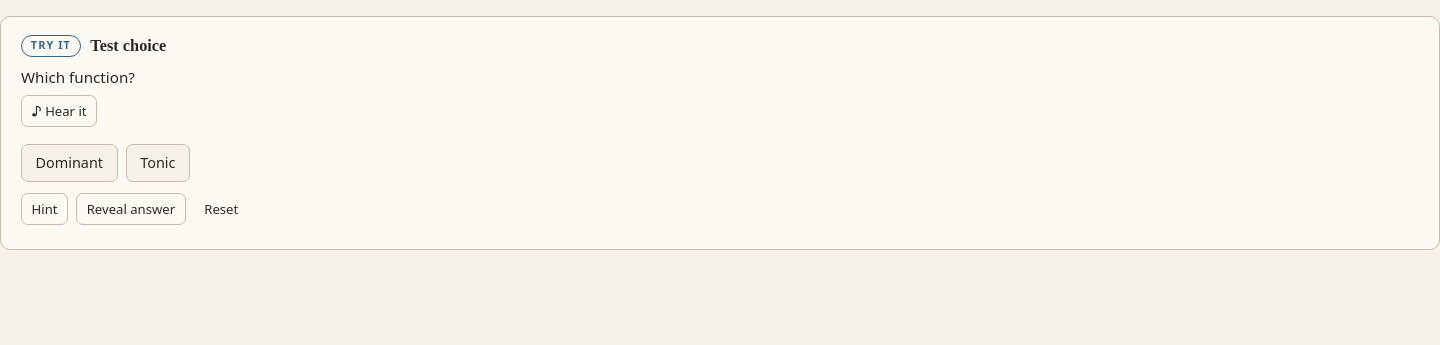
Test: ChoiceExercise › shows hint, reveals explanation, and resets cleanly
Click the button "Hint": (45, 209) [21,193,68,225]
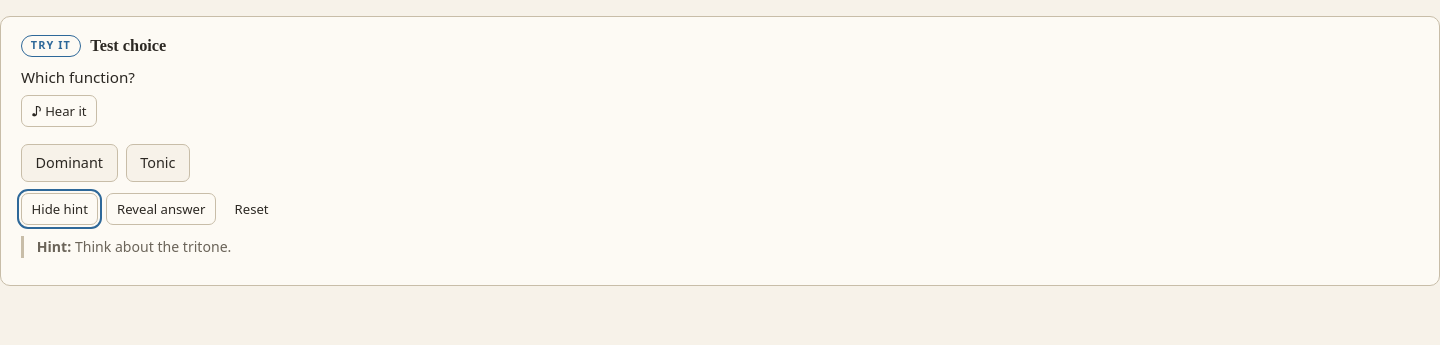
Expected: the text "Hint: Think about the tritone." is shown, [21,236,1419,258]
Click the button "Reveal answer": (161, 209) [106,193,216,225]
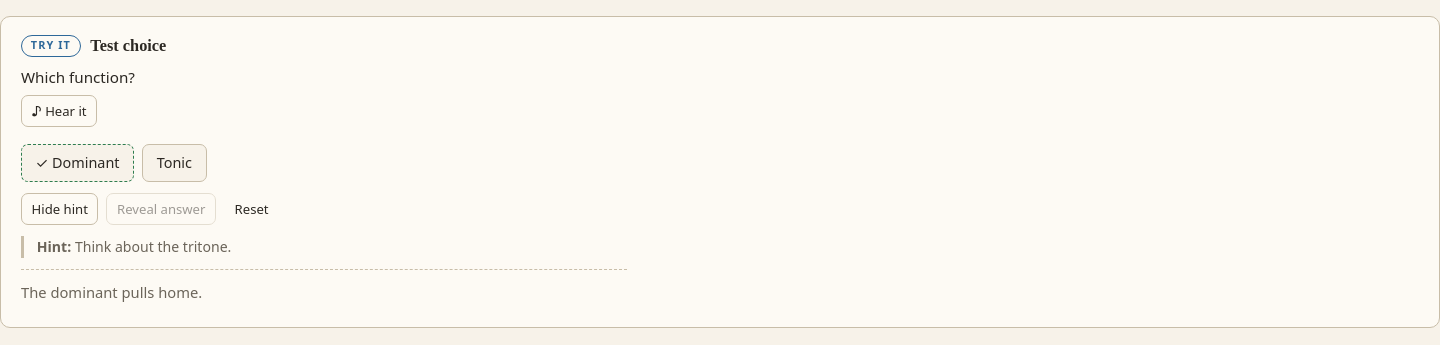
Expected: the text "The dominant pulls home." is shown, [21,282,202,302]
Expected: the button "Reveal answer" is disabled, [106,193,216,225]
Click the button "Reset": (252, 209) [224,193,279,225]
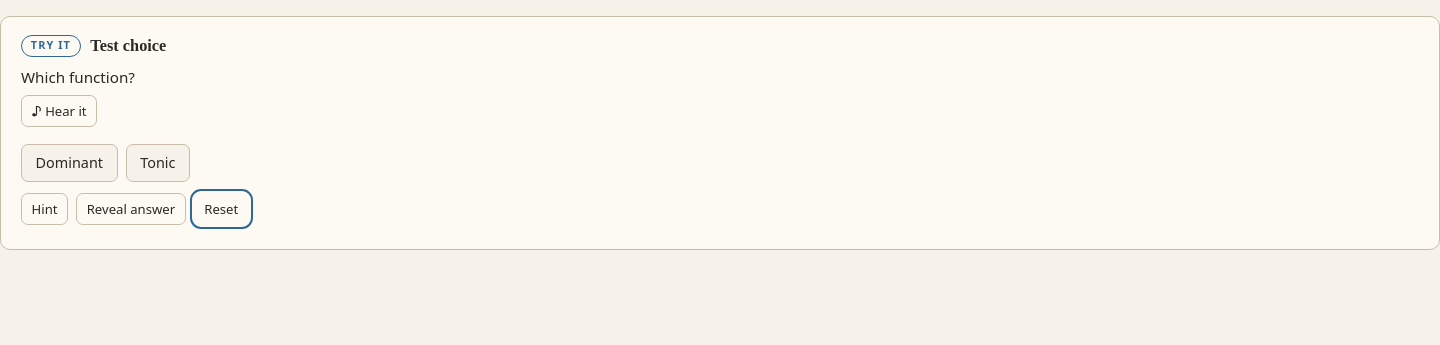
Expected: the text "The dominant pulls home" is gone
Expected: the text "Think about the tritone" is gone
